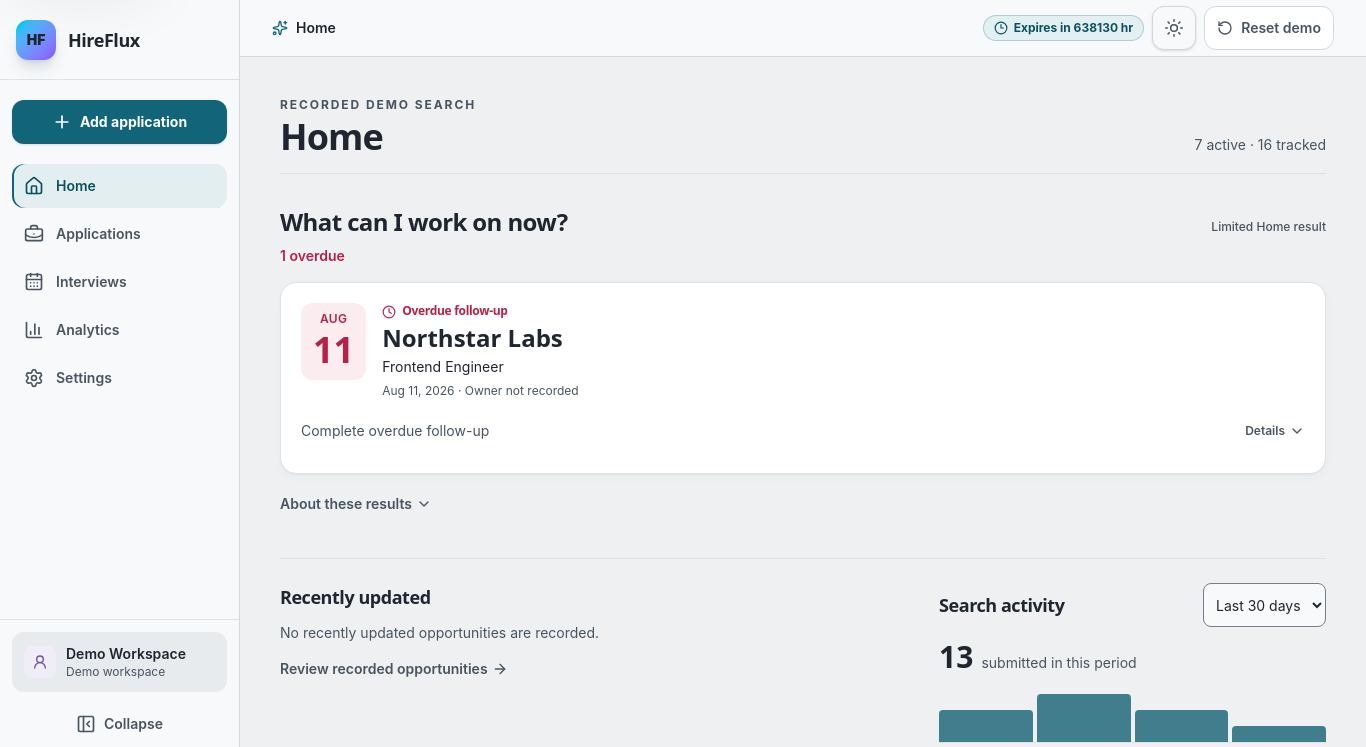
workspace milestone features › keeps a recorded follow-up discoverable while its date is rescheduled
Step 1. Click the button "Details" → [1275, 431], box [1245,409,1305,453]
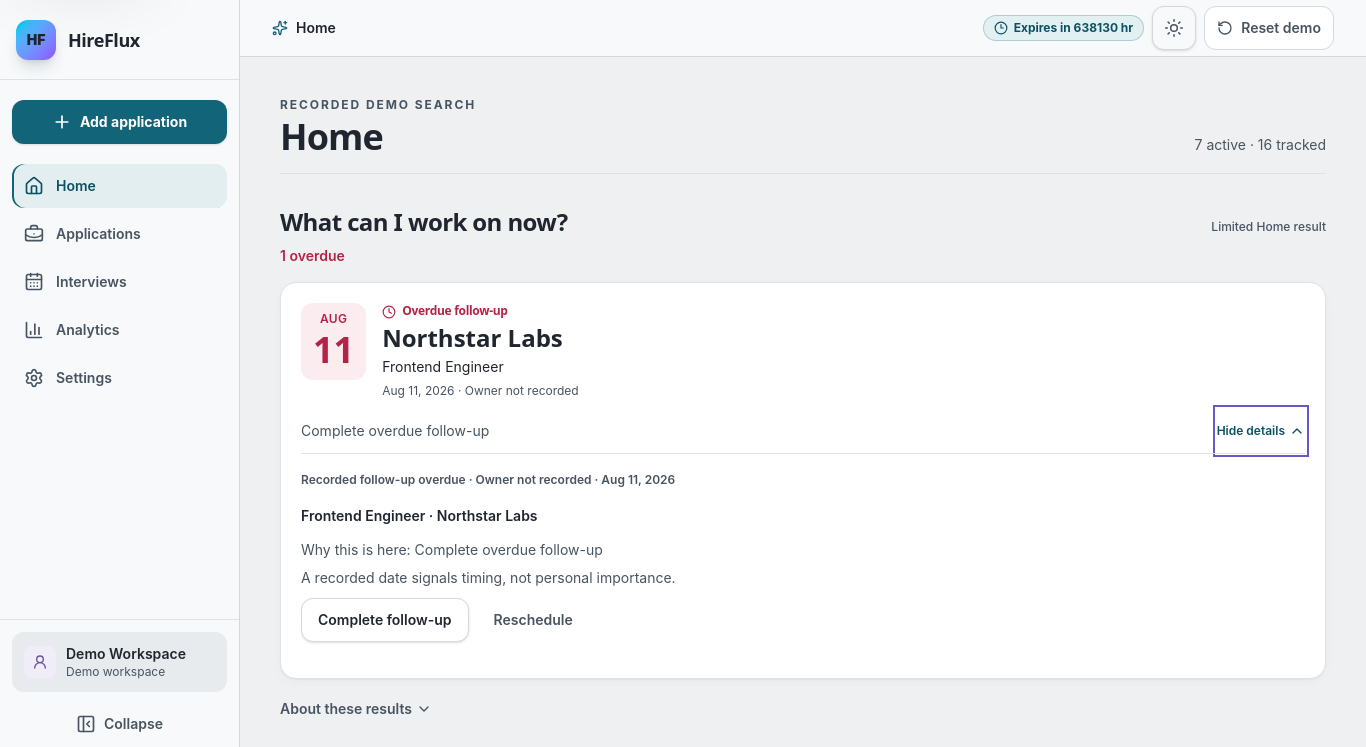
Step 2. Click the button "Reschedule" → [533, 620], box [477,598,590,642]
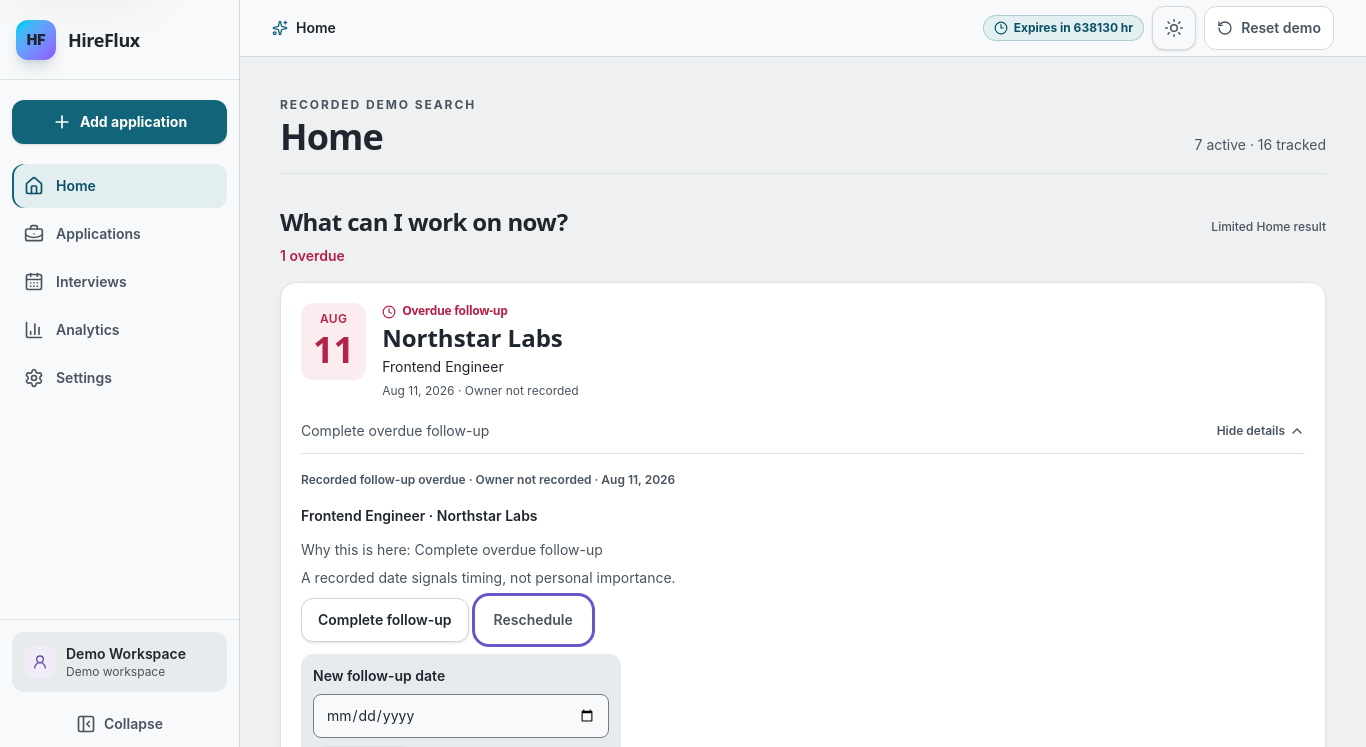
Expected: the heading "Overdue follow-up" is shown, [382,302,508,319]
Step 3. Type "2026-08-20" into the date field labelled "New follow-up date" → [461, 716], box [313,694,609,738]
(page scrolled)
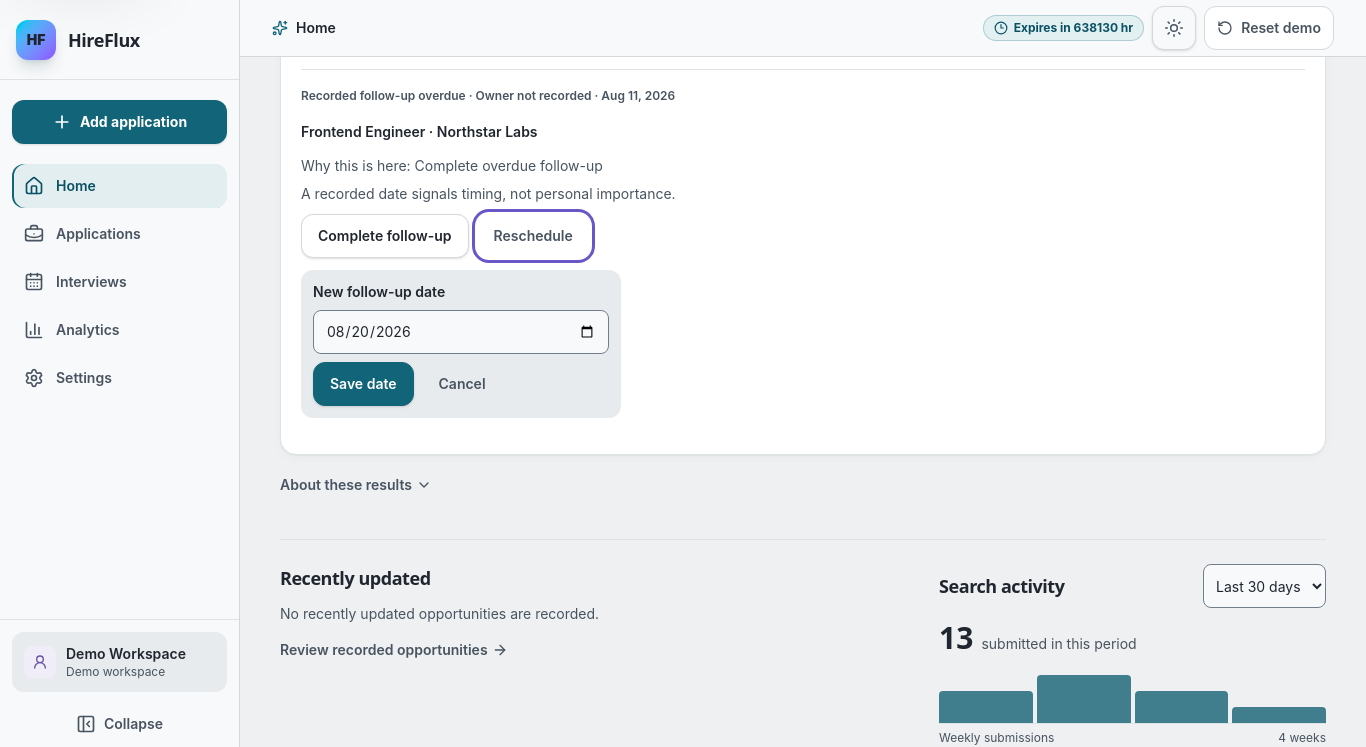
Step 4. Click the button "Save date" → [363, 384], box [313,362,414,406]
(page scrolled)
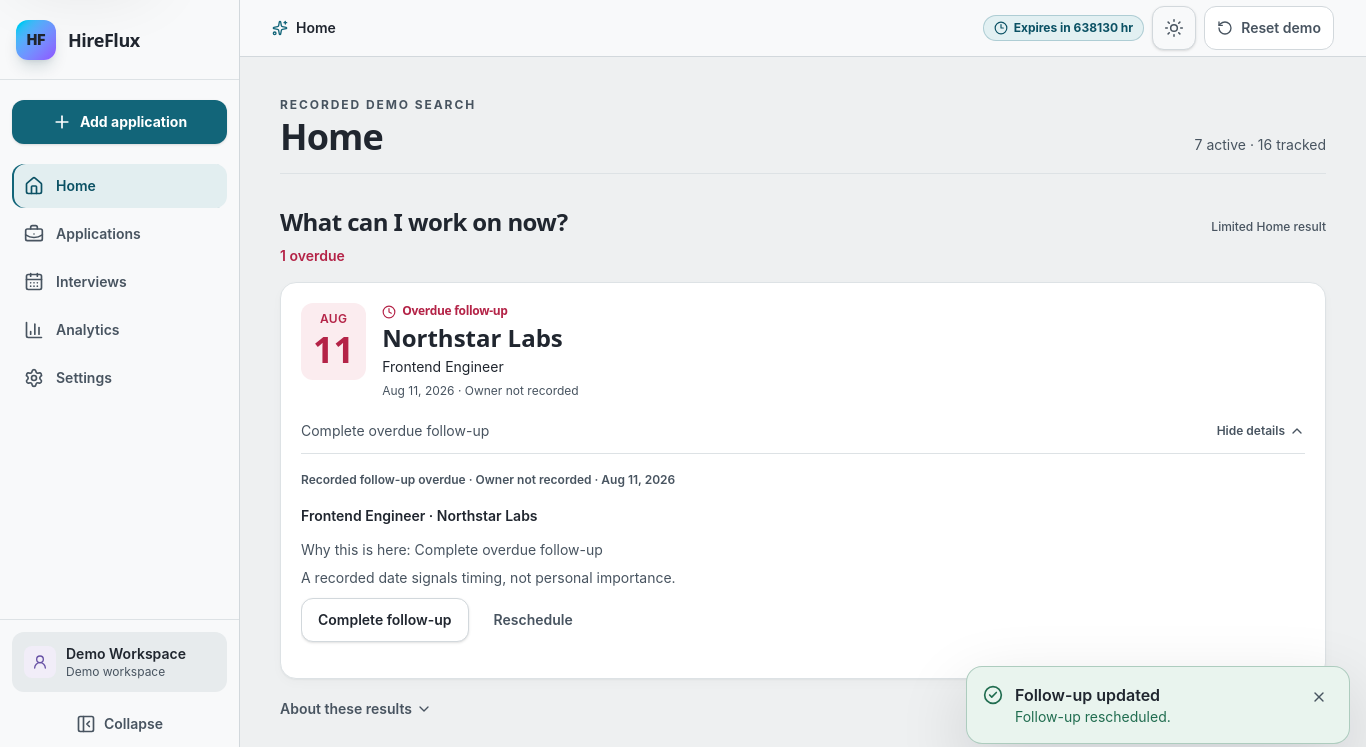
Expected: the text "Follow-up rescheduled." is shown, [1015,708,1171,725]
Expected: the label labelled "New follow-up date" is gone
